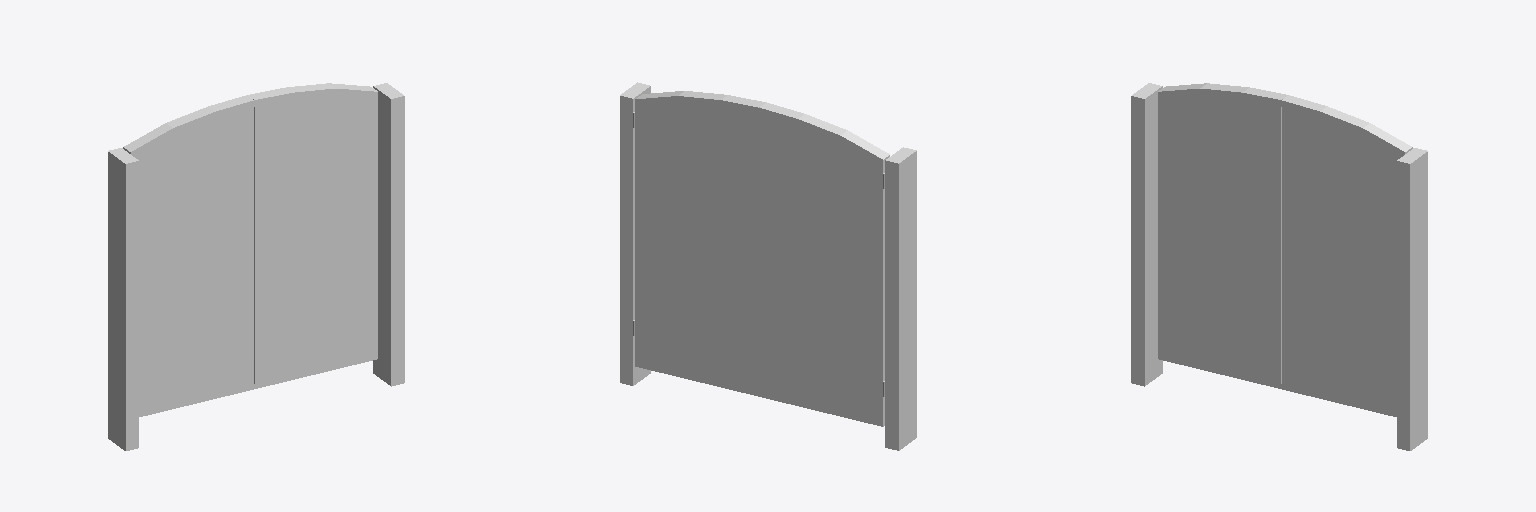
Rendered from Door_swing_sin_arco.obj.
3 renders of one model, left to right at view 1: azimuth 30°, elevation 25°; view 2: azimuth 150°, elevation 25°; view 3: azimuth 330°, elevation 25°, orthographic.
Parts seen in each view (by area): view 1: Swing001, Swing002, Arco_Swing1; view 2: Swing002, Swing001, Arco_Swing1; view 3: Swing002, Swing001, Arco_Swing1.
Boxes of the visible parts, <box> form: Swing001: <box>248,83,377,388</box>; Swing002: <box>123,95,253,416</box>; Arco_Swing1: <box>108,83,404,450</box>; Swing002: <box>759,102,889,426</box>; Swing001: <box>635,91,765,396</box>; Arco_Swing1: <box>620,82,916,450</box>; Swing002: <box>1158,83,1287,388</box>; Swing001: <box>1282,95,1412,416</box>; Arco_Swing1: <box>1131,83,1427,450</box>.
Size of the model in its own units: 70.87 by 74.99 by 8.12.